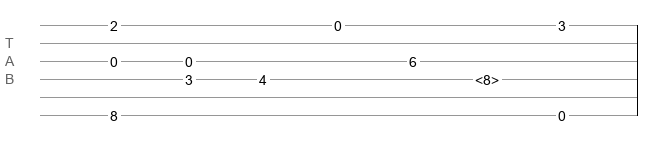0: (110, 54, 118, 64), (185, 54, 193, 64), (334, 18, 342, 28), (558, 108, 566, 118)
2: (110, 18, 118, 28)
3: (185, 72, 193, 82), (558, 18, 566, 28)
4: (259, 72, 267, 82)
6: (409, 54, 417, 64)
8: (110, 108, 118, 118)
harmonic: (475, 72, 499, 82)
